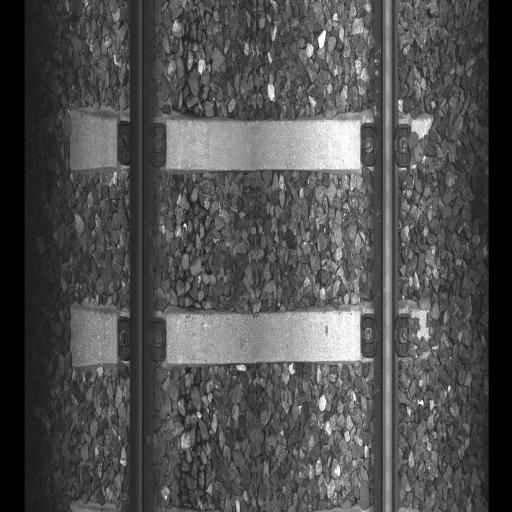sleeper: (70, 111, 438, 176), (72, 304, 442, 366)
